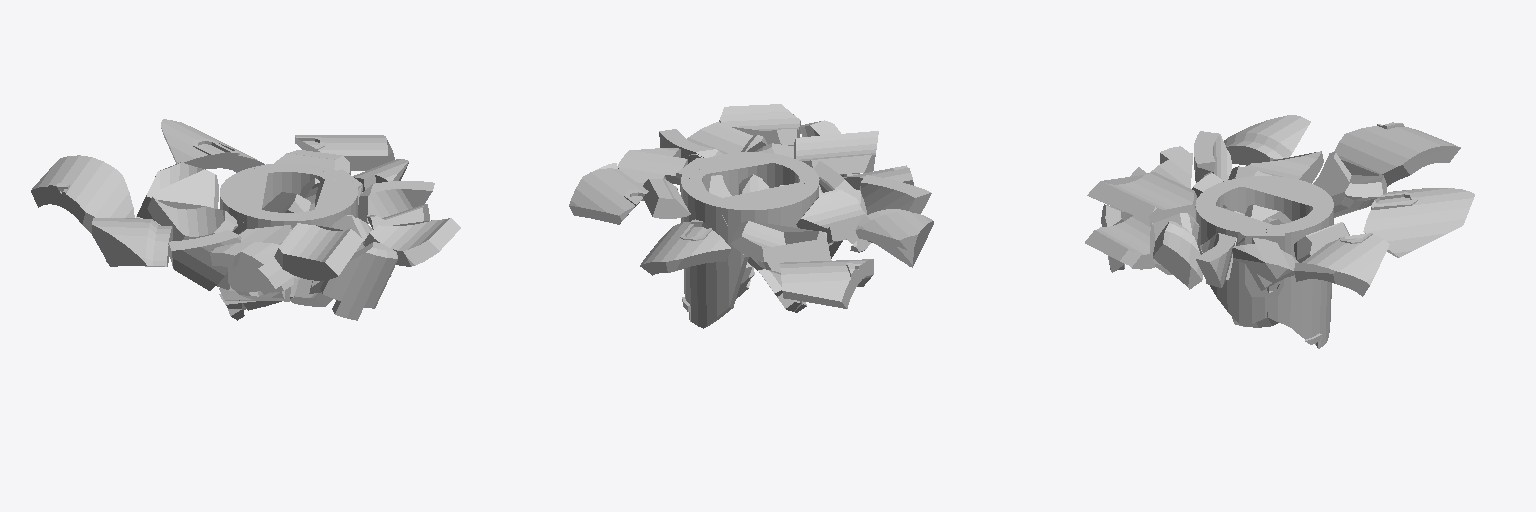
The model's file is destruction_tower_000090.obj.
3 renders of one model, left to right at view 1: azimuth 30°, elevation 25°; view 2: azimuth 150°, elevation 25°; view 3: azimuth 270°, elevation 25°, orthographic.
Parts seen in each view (by area): view 1: tower.001_cell.003_Mesh.003, tower.001_cell.024_Mesh.024, tower.001_cell.011_Mesh.011, tower.001_cell.005_Mesh.005, tower.001_cell.006_Mesh.006, tower.001_cell.025_Mesh.025, tower.001_cell.021_Mesh.021, tower.001_cell.007_Mesh.007, tower.001_cell.009_Mesh.009, tower.001_cell.002_Mesh.002, tower.001_cell.012_Mesh.012, tower.001_cell.010_Mesh.010 (+12 smaller); view 2: tower.001_cell.017_Mesh.017, tower.001_cell.003_Mesh.003, tower.001_cell.007_Mesh.007, tower.001_cell.015_Mesh.015, tower.001_cell.012_Mesh.012, tower.001_cell.025_Mesh.025, tower.001_cell.024_Mesh.024, tower.001_cell.005_Mesh.005, tower.001_cell.028_Mesh.028, tower.001_cell.021_Mesh.021, tower.001_cell.009_Mesh.009, tower.001_cell.002_Mesh.002 (+7 smaller); view 3: tower.001_cell.025_Mesh.025, tower.001_cell.003_Mesh.003, tower.001_cell.012_Mesh.012, tower.001_cell.017_Mesh.017, tower.001_cell.024_Mesh.024, tower.001_cell.005_Mesh.005, tower.001_cell.015_Mesh.015, tower.001_cell.007_Mesh.007, tower.001_cell.021_Mesh.021, tower.001_cell.020_Mesh.020, tower.001_cell_Mesh, tower.001_cell.028_Mesh.028 (+10 smaller).
Part boxes in pixels (x1,y1,x2,y2): tower.001_cell.003_Mesh.003: (31, 155, 134, 233); tower.001_cell.024_Mesh.024: (274, 223, 362, 280); tower.001_cell.011_Mesh.011: (320, 242, 397, 320); tower.001_cell.005_Mesh.005: (92, 218, 172, 266); tower.001_cell.006_Mesh.006: (210, 242, 293, 294); tower.001_cell.025_Mesh.025: (161, 119, 264, 172); tower.001_cell.021_Mesh.021: (363, 218, 460, 266); tower.001_cell.007_Mesh.007: (136, 162, 218, 220); tower.001_cell.009_Mesh.009: (147, 196, 237, 240); tower.001_cell.002_Mesh.002: (168, 230, 241, 290); tower.001_cell.012_Mesh.012: (295, 135, 394, 170); tower.001_cell.010_Mesh.010: (358, 181, 434, 223); tower.001_cell.017_Mesh.017: (681, 177, 748, 328); tower.001_cell.003_Mesh.003: (780, 259, 873, 308); tower.001_cell.007_Mesh.007: (730, 221, 831, 274); tower.001_cell.015_Mesh.015: (718, 182, 817, 256); tower.001_cell.012_Mesh.012: (569, 163, 648, 224); tower.001_cell.025_Mesh.025: (640, 219, 730, 275); tower.001_cell.024_Mesh.024: (794, 131, 878, 174); tower.001_cell.005_Mesh.005: (855, 209, 933, 267); tower.001_cell.028_Mesh.028: (696, 152, 808, 195); tower.001_cell.021_Mesh.021: (719, 104, 800, 145); tower.001_cell.009_Mesh.009: (796, 189, 866, 243); tower.001_cell.002_Mesh.002: (860, 175, 931, 242); tower.001_cell.025_Mesh.025: (1363, 188, 1474, 257); tower.001_cell.003_Mesh.003: (1334, 122, 1460, 186); tower.001_cell.012_Mesh.012: (1294, 233, 1389, 296); tower.001_cell.017_Mesh.017: (1290, 204, 1333, 348); tower.001_cell.024_Mesh.024: (1087, 172, 1196, 222); tower.001_cell.005_Mesh.005: (1224, 115, 1310, 165); tower.001_cell.015_Mesh.015: (1243, 176, 1333, 220); tower.001_cell.007_Mesh.007: (1313, 152, 1386, 217); tower.001_cell.021_Mesh.021: (1085, 212, 1155, 269); tower.001_cell.020_Mesh.020: (1210, 231, 1270, 325); tower.001_cell_Mesh: (1153, 221, 1202, 289); tower.001_cell.028_Mesh.028: (1195, 191, 1271, 254).
Bounding box in the file's own units: 112 × 44.39 × 121.